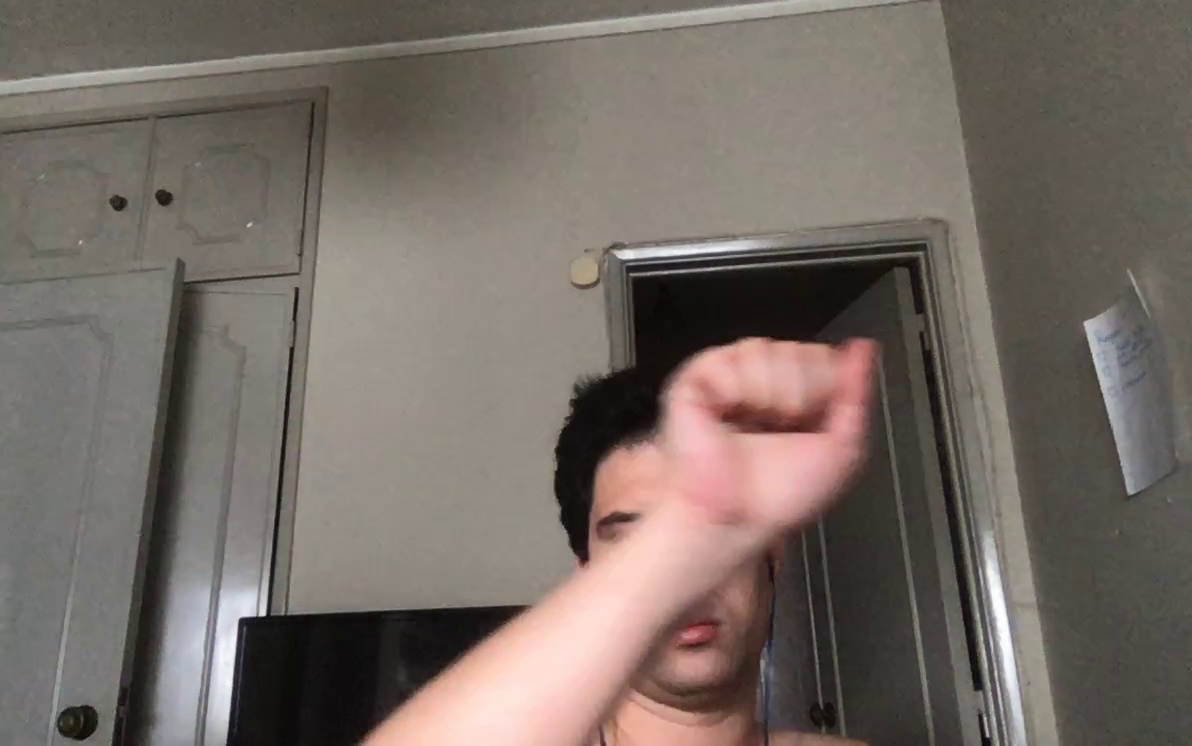a: (658, 319, 880, 533)
